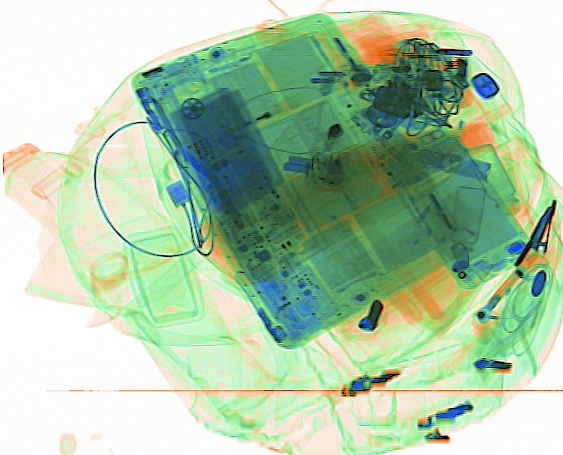lighter: (217, 89, 312, 150)
